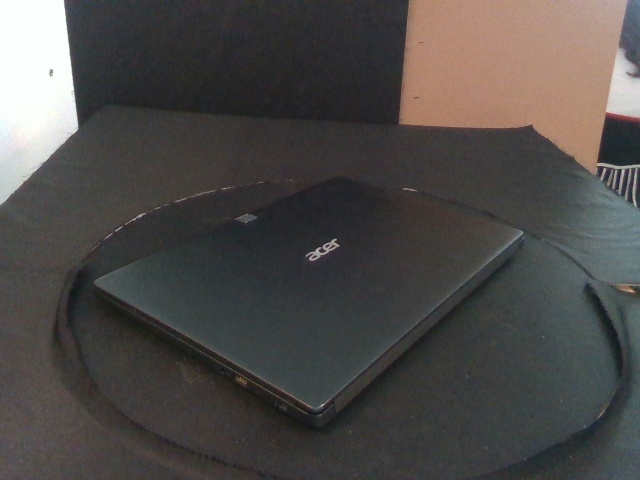laptop: (92, 176, 525, 432)
